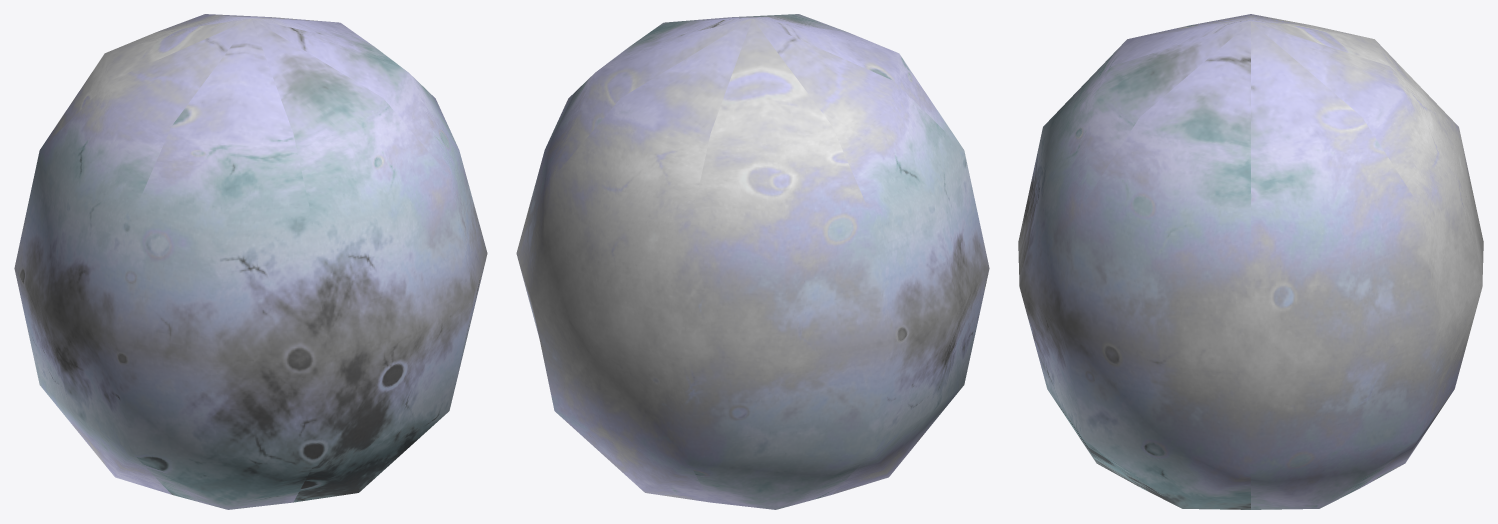
File: Planet11.fbx
3 renders of one model, left to right at view 1: azimuth 30°, elevation 25°; view 2: azimuth 150°, elevation 25°; view 3: azimuth 270°, elevation 25°, orthographic.
Parts seen in each view (by area): view 1: pasted__pSphere2; view 2: pasted__pSphere2; view 3: pasted__pSphere2.
Boxes of the visible parts, x1=… form: pasted__pSphere2: x1=14, y1=14, x2=487, y2=509; pasted__pSphere2: x1=516, y1=14, x2=989, y2=509; pasted__pSphere2: x1=1018, y1=14, x2=1483, y2=509.
Bounding box in the file's own units: 1.56 × 1.76 × 1.53.
Materials: 1 (1 with a texture image).
